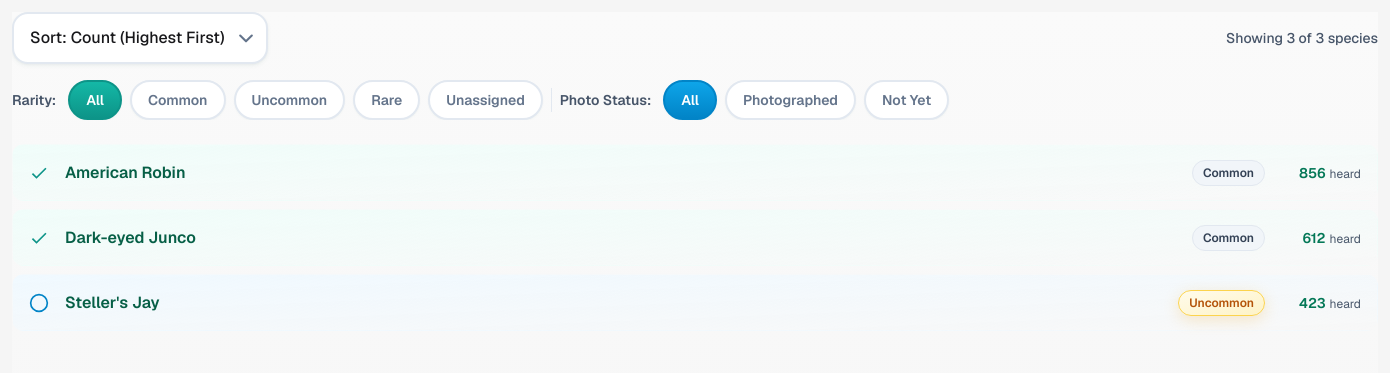
Test: SpeciesActivityList › shows empty filtered state when no matches
The image size is (1390, 373).
// Filter by rare (no matches)
Click the button with aria-label "Filter by Rare rarity" at (387, 100), box [353,80,420,120]
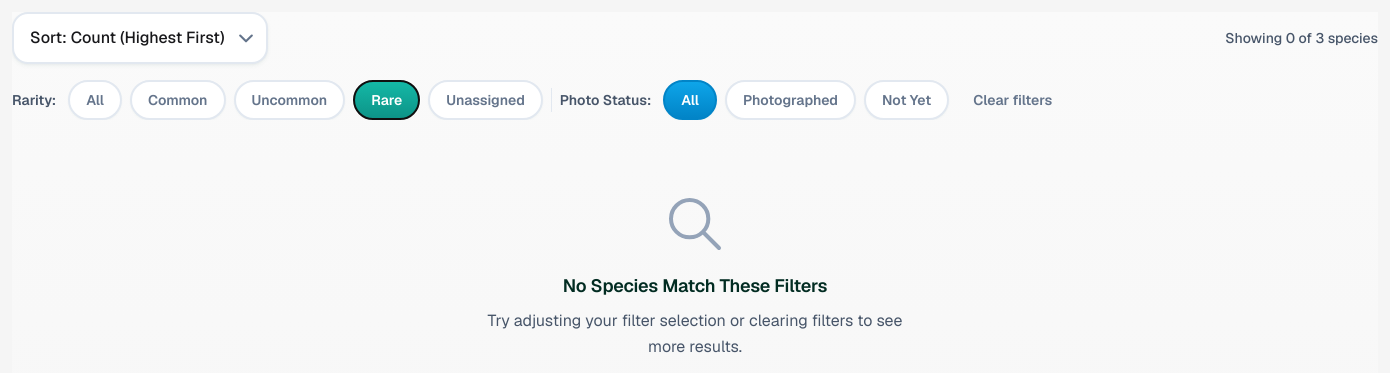
Now the heading "No Species Match These Filters" is shown, box [563,274,827,297]
Now the text "Try adjusting your filter selection" is shown, box [488,310,902,357]
